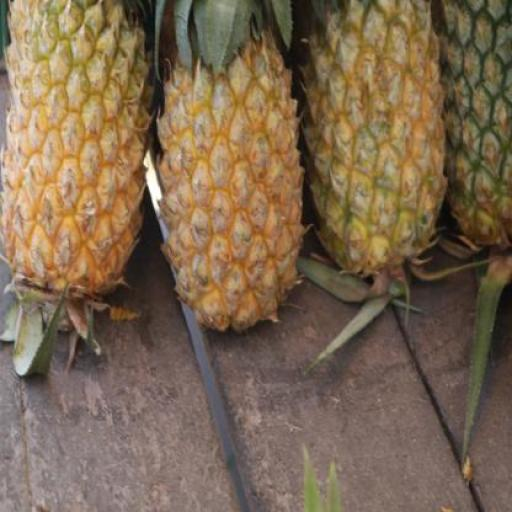------------------------------: (309, 0, 448, 282)
Pineapple - v8 v1: (1, 0, 145, 311), (160, 18, 308, 320)
